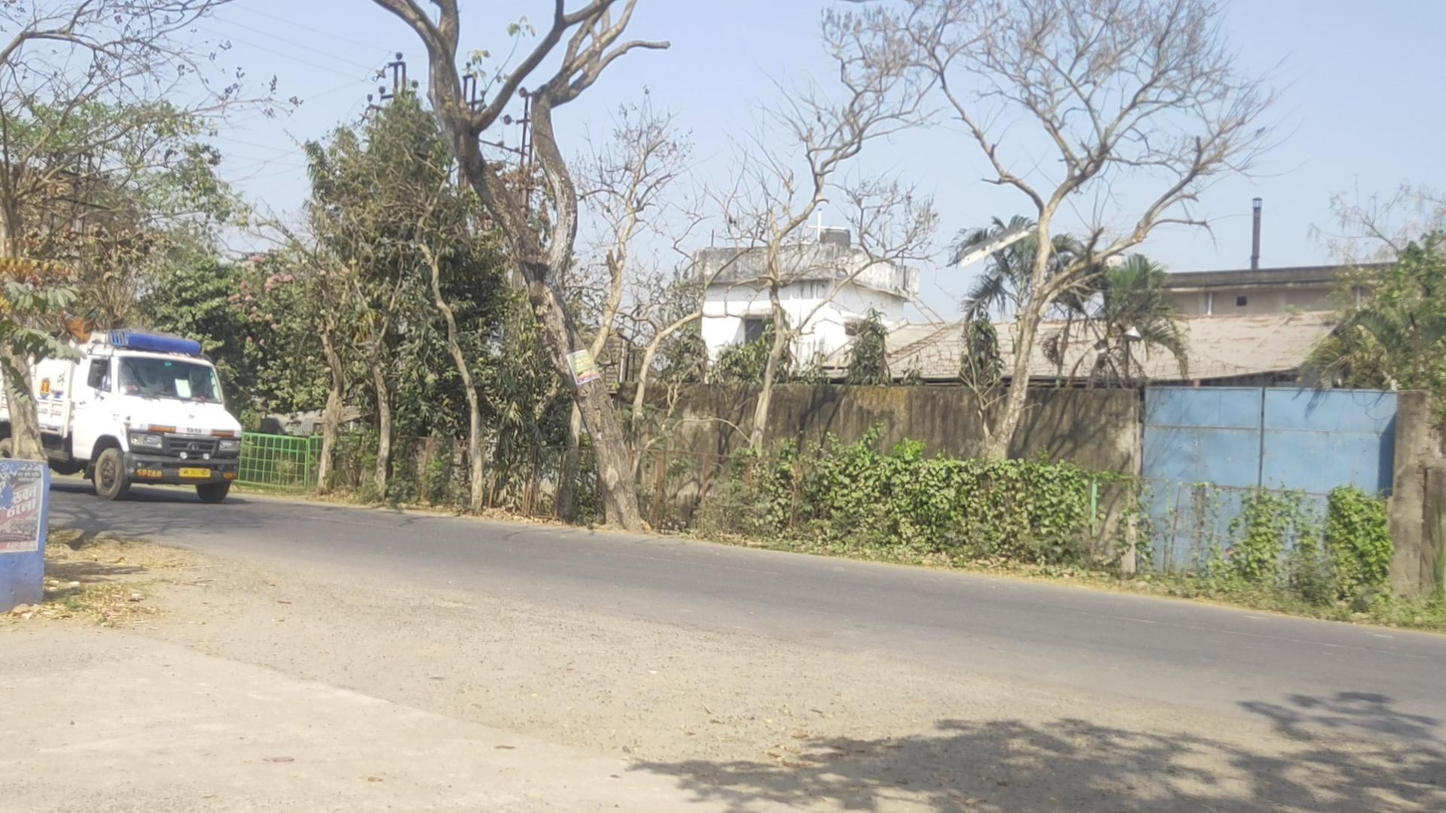truck: (2, 326, 243, 504)
